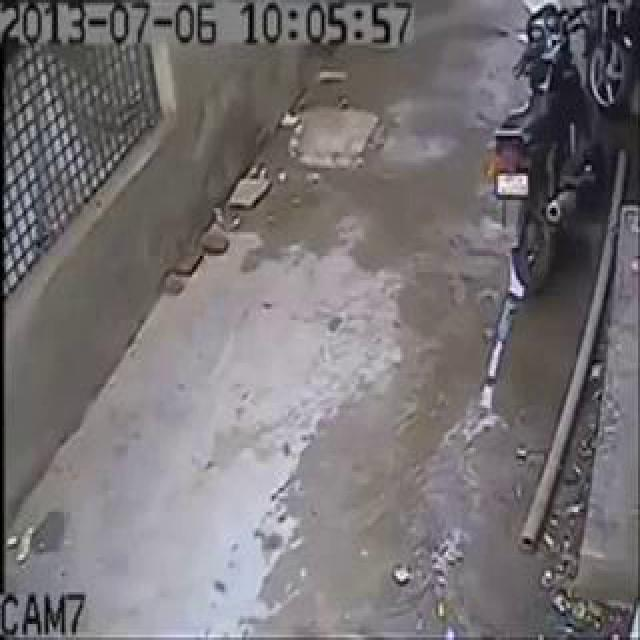stealing: (138, 44, 377, 525)
